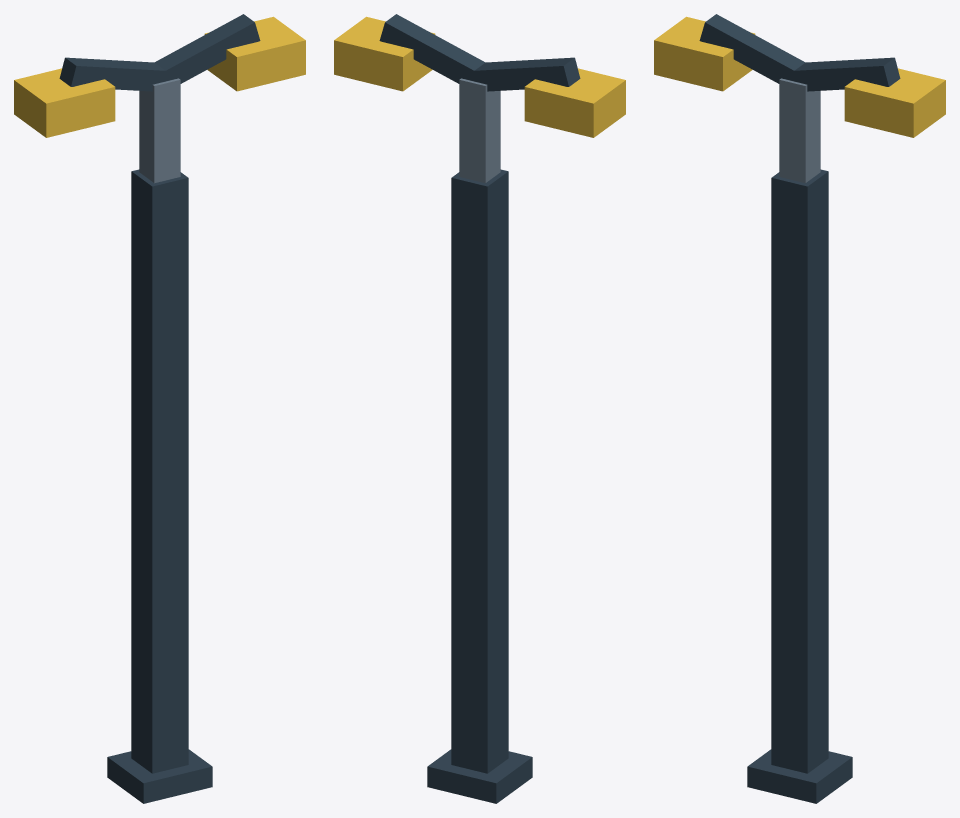
The picture shows the model from 3 angles, left to right: view 1: azimuth 30°, elevation 25°; view 2: azimuth 150°, elevation 25°; view 3: azimuth 330°, elevation 25°; orthographic projection.
Parts seen in each view (by area): view 1: square-lamp-post, square-beam (×3), block-lamp-head (×2), foot; view 2: square-lamp-post, square-beam (×3), block-lamp-head (×2), foot; view 3: square-lamp-post, square-beam (×3), block-lamp-head (×2), foot.
Boxes of the visible parts, x1,y1,x2,y2 form: square-lamp-post: (131,169,188,773); square-beam (×3): (59,14,260,183); block-lamp-head (×2): (14,16,305,137); foot: (107,749,212,803); square-lamp-post: (451,169,508,773); square-beam (×3): (379,14,580,183); block-lamp-head (×2): (334,16,625,137); foot: (427,749,532,803); square-lamp-post: (771,169,828,773); square-beam (×3): (699,14,900,183); block-lamp-head (×2): (654,16,945,137); foot: (747,749,852,803).
Size of the model in its own units: 1.58 by 4.33 by 0.38.
